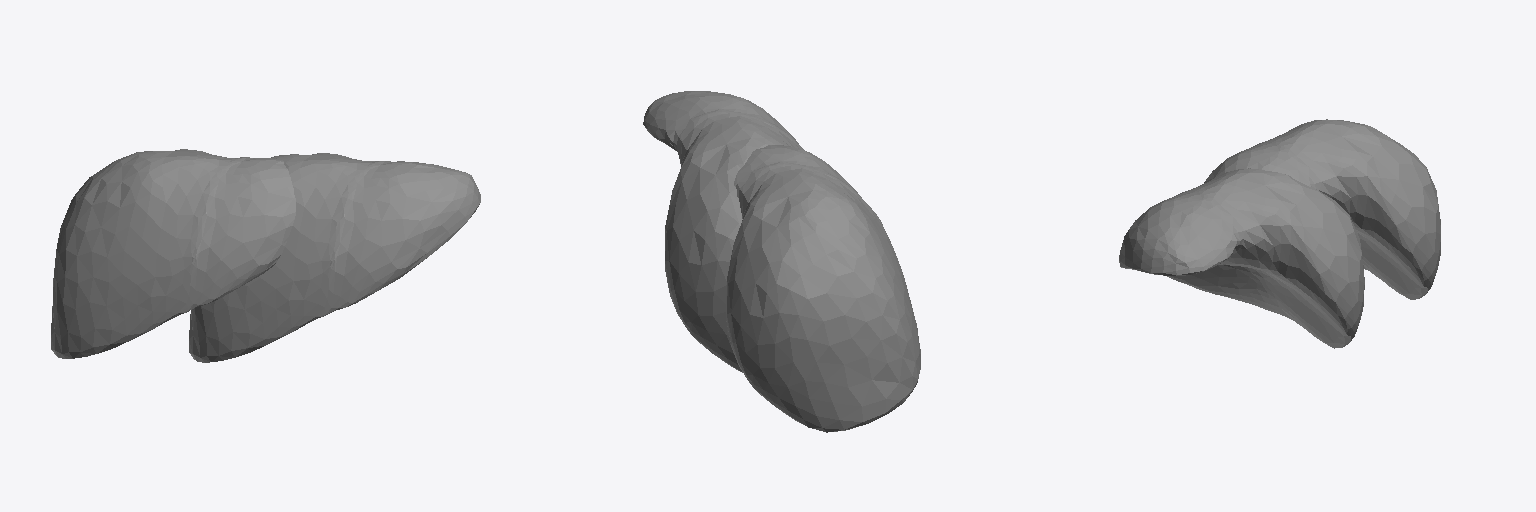
Rendered from pic4.obj.
The picture shows the model from 3 angles: view 1: azimuth 30°, elevation 25°; view 2: azimuth 150°, elevation 25°; view 3: azimuth 270°, elevation 25°; orthographic projection.
Parts seen in each view (by area): view 1: default01, default; view 2: default01, default; view 3: default, default01.
Part boxes in pixels (left/top/right/bottom): default01: left=51, top=149, right=295, bottom=358; default: left=189, top=153, right=480, bottom=362; default01: left=726, top=145, right=920, bottom=432; default: left=643, top=91, right=804, bottom=372; default: left=1119, top=168, right=1364, bottom=348; default01: left=1204, top=119, right=1440, bottom=299.
Size of the model in its own units: 8.44 by 4.76 by 6.95.